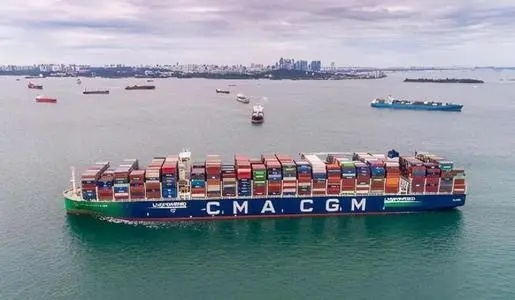Cargoship: (62, 146, 469, 212)
otherboat: (363, 92, 466, 114), (251, 103, 267, 125), (235, 90, 250, 104)
